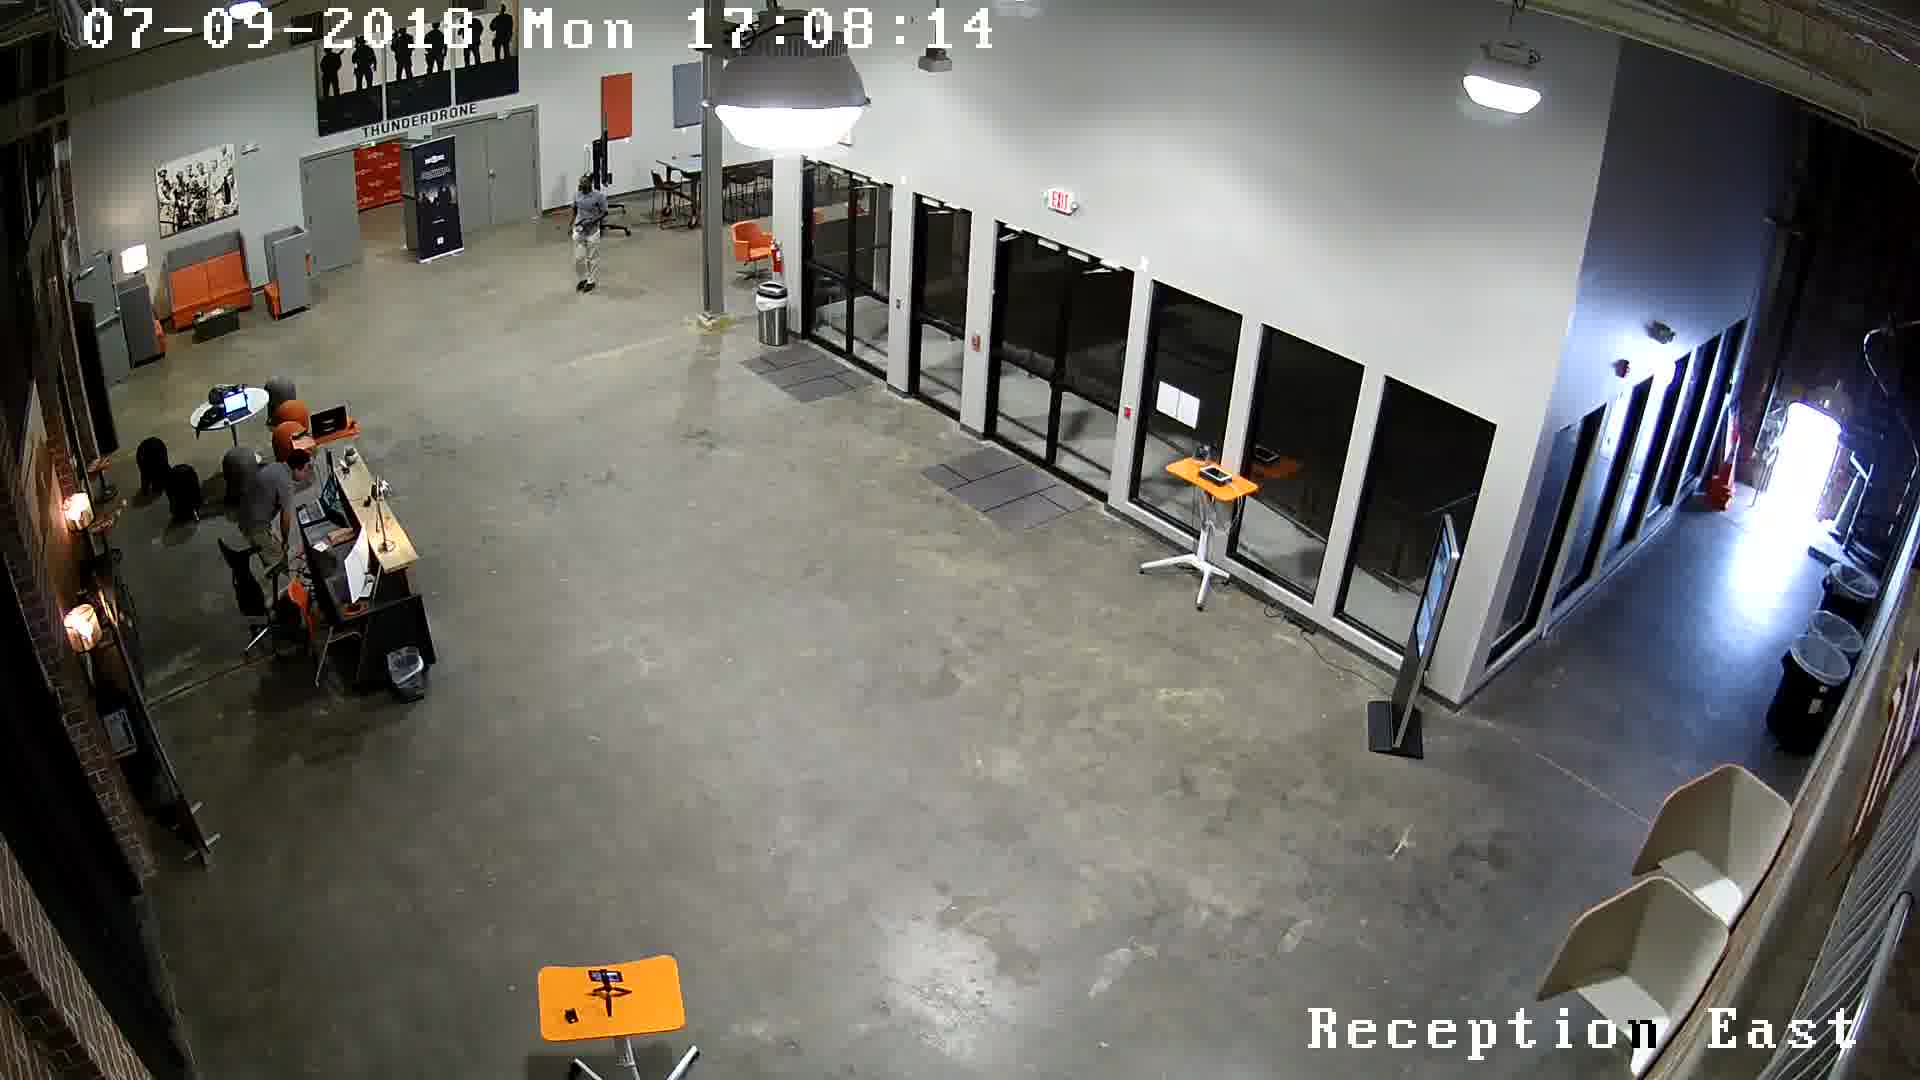pistol: (568, 208, 603, 237)
